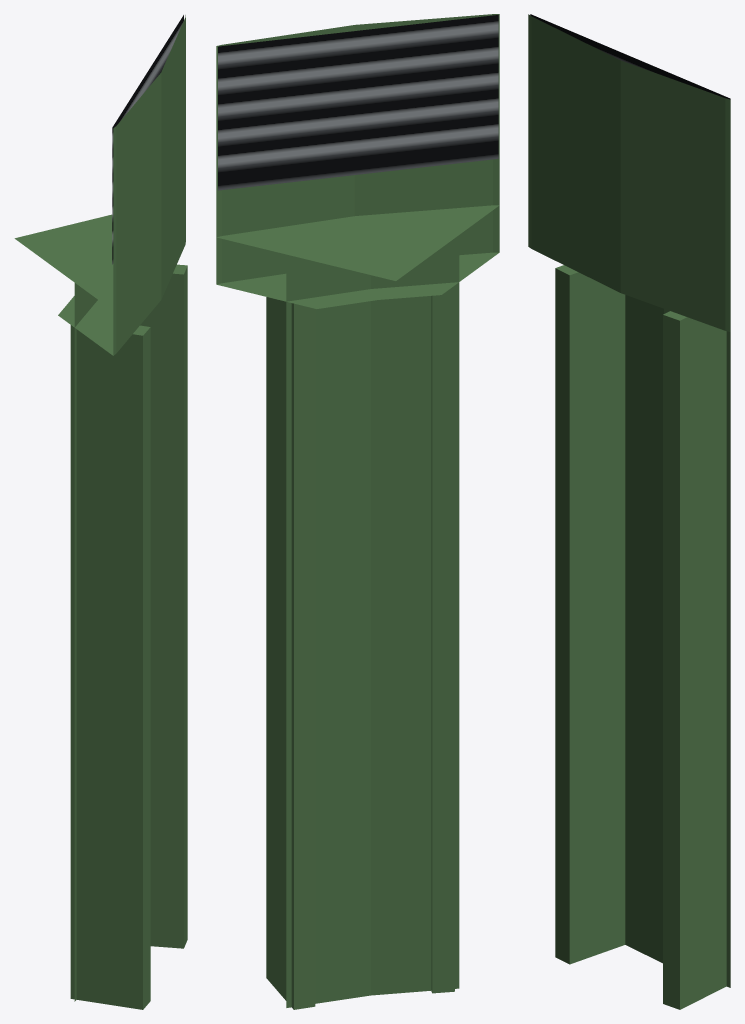
The model's file is cell_58.obj.
3 views of the same model, side by side, from view 1: azimuth 30°, elevation 25°; view 2: azimuth 150°, elevation 25°; view 3: azimuth 270°, elevation 25° (orthographic). The views are drawn at different scales.
Size of the model in its own units: 0.1991 by 1 by 0.1991.
